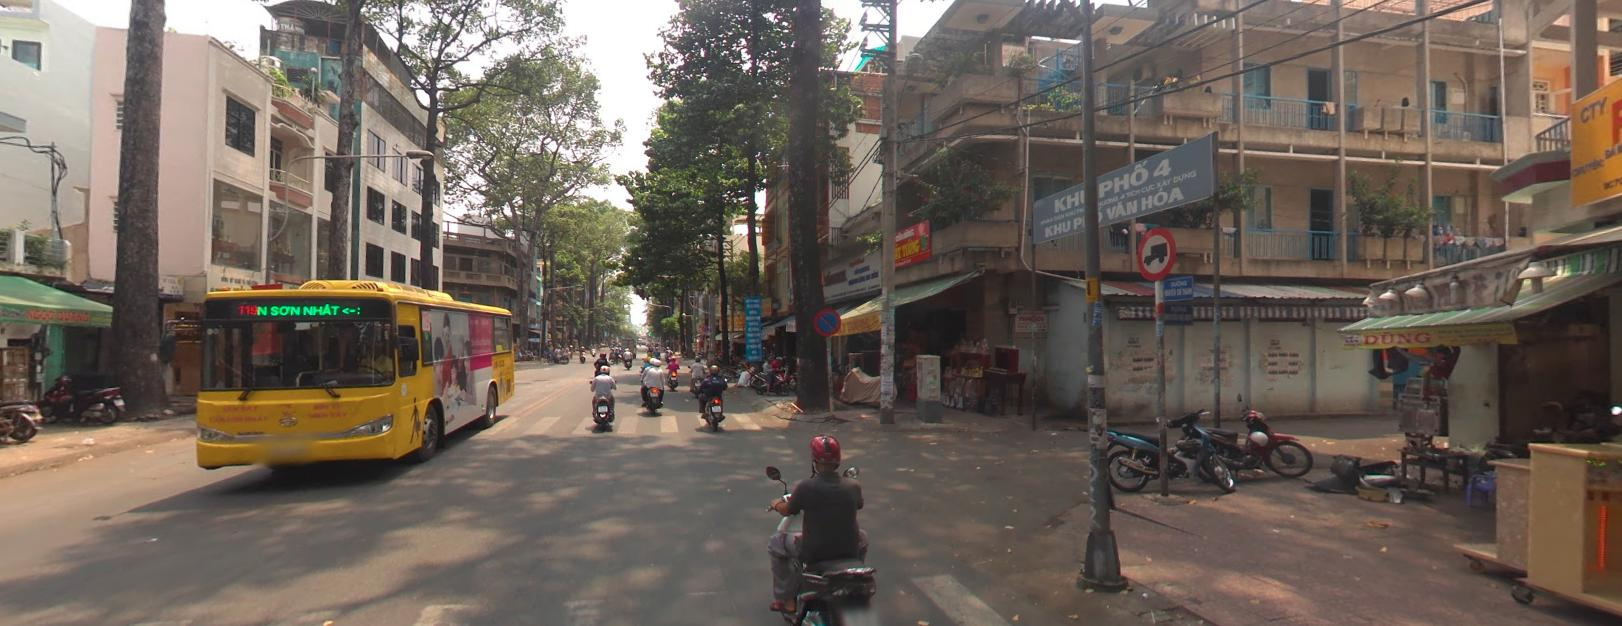Cam con lai: (1136, 225, 1175, 279)
Cam dung va do: (813, 307, 840, 333), (701, 323, 707, 329)
